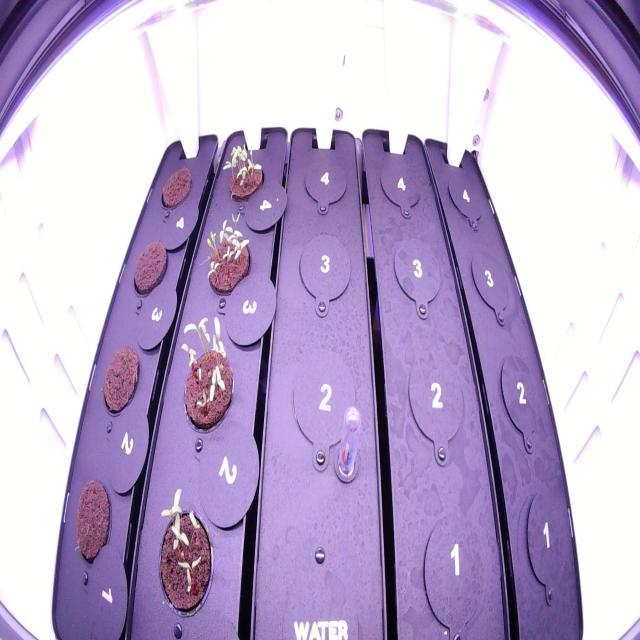empty_pod: (412, 507, 491, 638), (285, 344, 360, 477), (402, 337, 471, 470), (520, 475, 577, 610), (494, 345, 551, 461), (385, 230, 446, 324), (294, 226, 355, 316), (464, 235, 518, 331), (298, 144, 348, 220), (441, 162, 493, 235), (375, 151, 423, 222)
germination: (150, 481, 218, 620), (170, 310, 237, 437), (195, 205, 256, 302), (216, 134, 268, 207)
pod: (73, 470, 114, 576), (96, 338, 143, 421), (128, 236, 171, 301), (156, 156, 194, 214)
